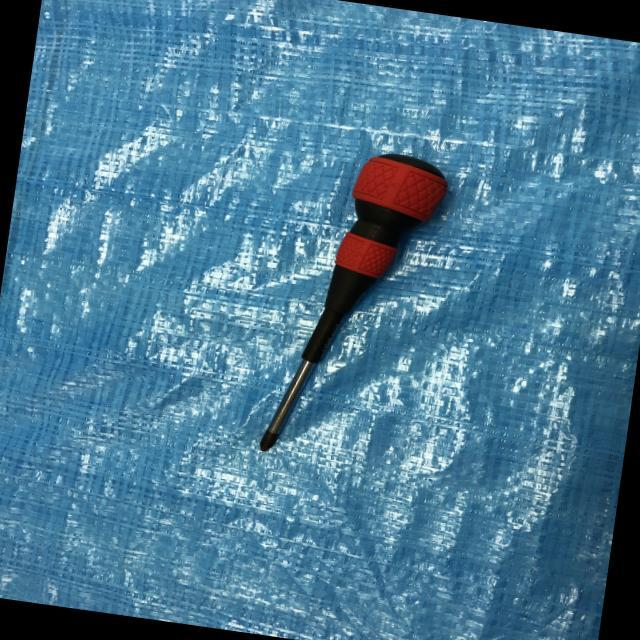screwdriver: (250, 138, 454, 470)
